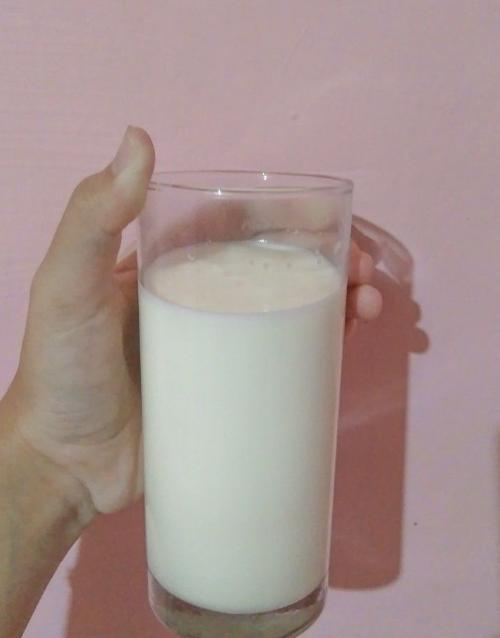produk_susu: (143, 179, 333, 625)
